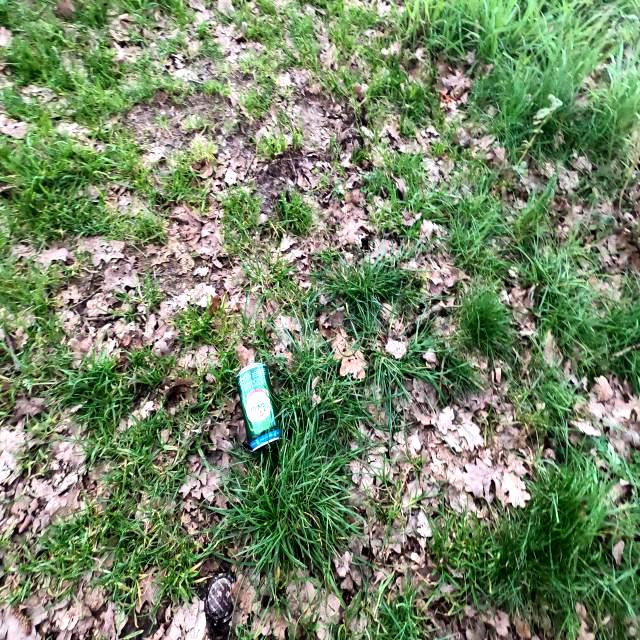Metal: (236, 356, 284, 452)
